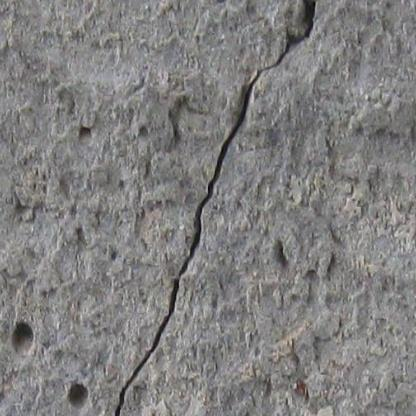Cracks: (106, 0, 321, 416)
